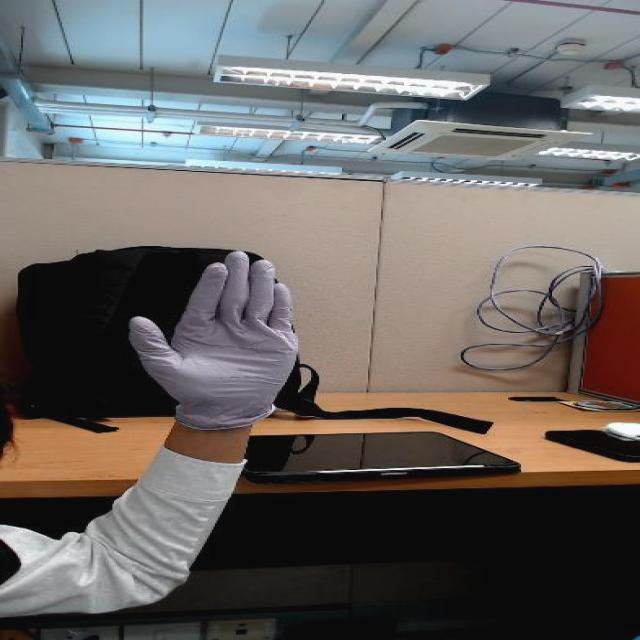glove: (82, 238, 351, 411)
